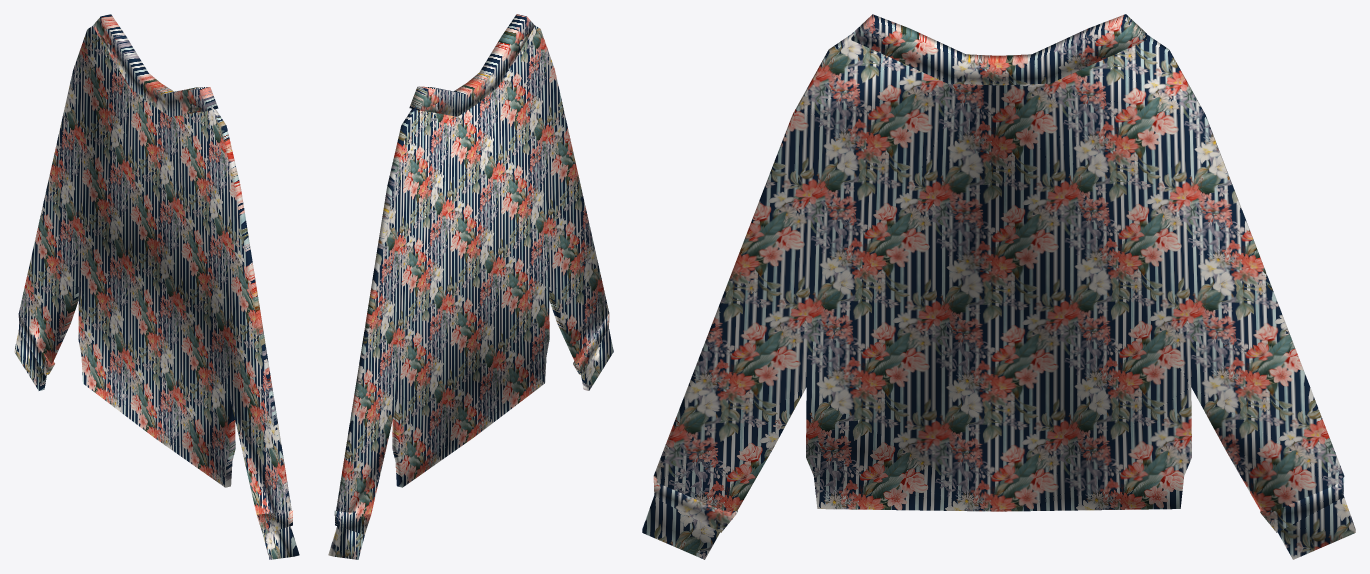
File: sweater6.fbx
The picture shows the model from 3 angles, left to right: view 1: azimuth 30°, elevation 25°; view 2: azimuth 150°, elevation 25°; view 3: azimuth 270°, elevation 25°; orthographic projection. The views are drawn at different scales.
Visible parts, largest first — view 1: sweater6; view 2: sweater6; view 3: sweater6.
Boxes of the visible parts, x1,y1,x2,y2 form: sweater6: (14, 14, 299, 559); sweater6: (328, 14, 613, 559); sweater6: (642, 14, 1355, 559).
Bounding box in the file's own units: 0.085 × 2.83 × 3.39.
